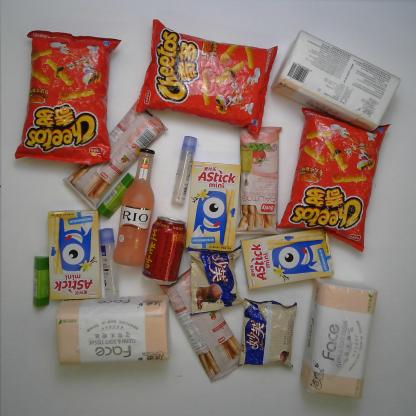Alcohol: (110, 145, 155, 269)
Dessert: (58, 92, 169, 213), (158, 262, 248, 382), (238, 225, 336, 292), (232, 120, 285, 240), (182, 156, 244, 256), (44, 207, 102, 301), (236, 296, 298, 369), (184, 245, 242, 315)
Drink: (140, 216, 188, 286)
Puffed Food: (132, 15, 279, 139), (276, 103, 392, 252), (10, 25, 125, 167)
Stationery: (167, 132, 197, 205), (95, 170, 136, 220), (97, 226, 120, 300), (30, 254, 51, 308)
Tissue: (266, 28, 402, 138), (297, 273, 380, 401), (54, 292, 172, 366)
